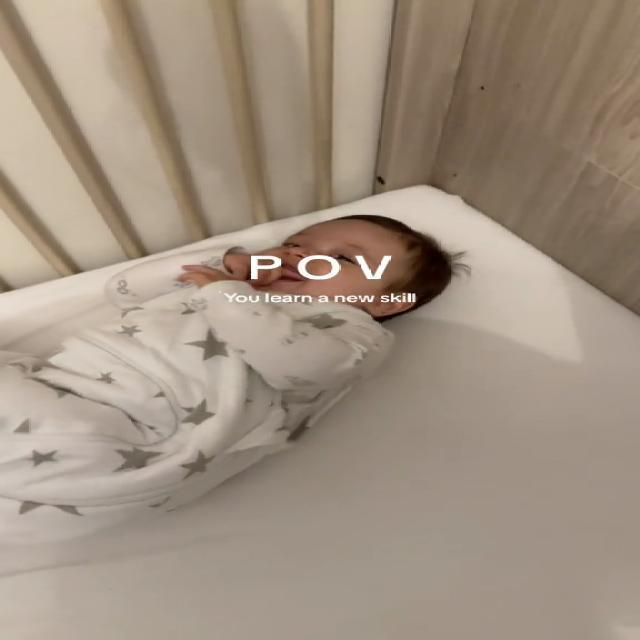baby: (0, 207, 459, 554)
